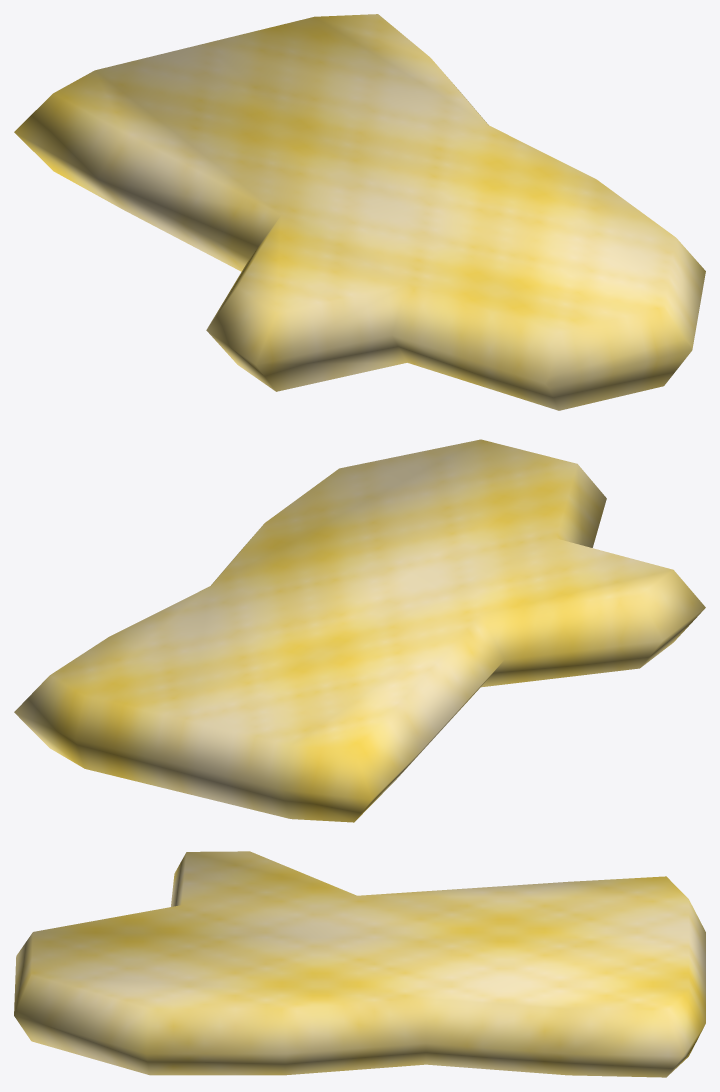
The model's file is Oven_mitt_A.FBX.
3 renders of one model, top to bottom at view 1: azimuth 30°, elevation 25°; view 2: azimuth 150°, elevation 25°; view 3: azimuth 270°, elevation 25°, orthographic. The views are drawn at different scales.
Parts seen in each view (by area): view 1: Mitt; view 2: Mitt; view 3: Mitt.
Boxes of the visible parts, bbox=[...] form: Mitt: bbox=[14, 14, 705, 410]; Mitt: bbox=[14, 439, 705, 822]; Mitt: bbox=[14, 851, 705, 1077].
Bounding box in the file's own units: 68.93 × 11.61 × 110.
